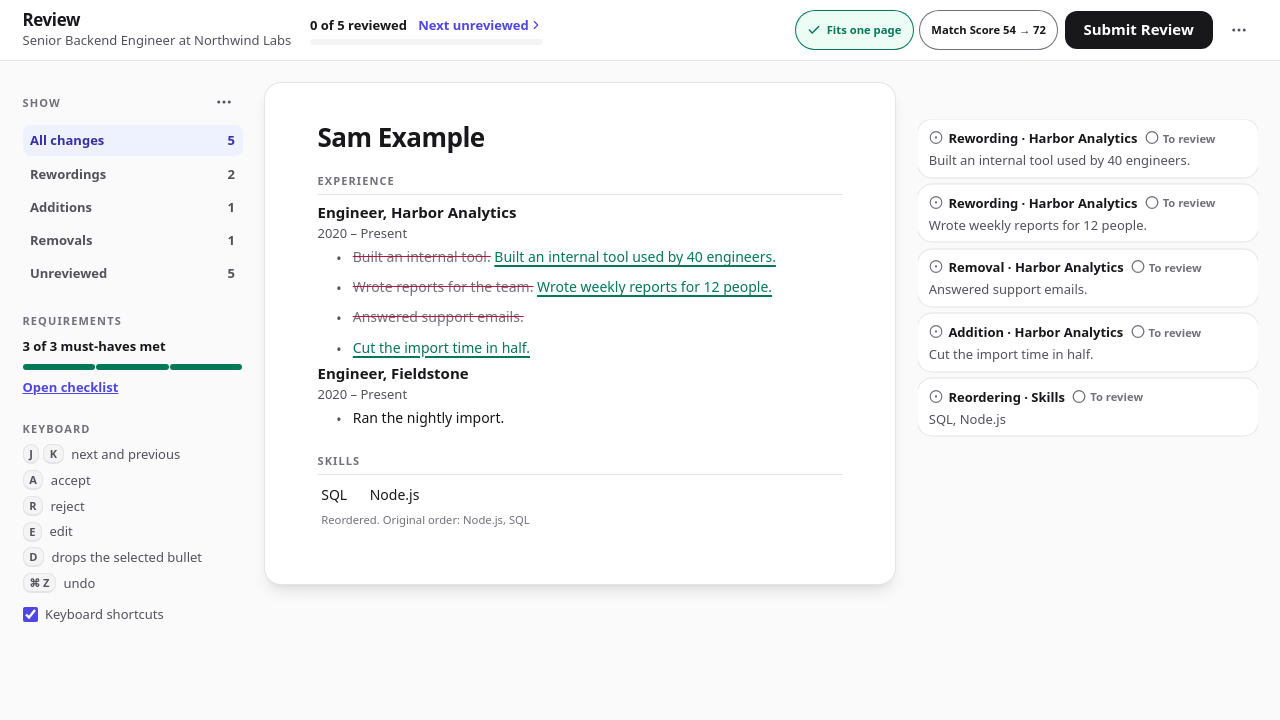
Test: Review screen: top bar and page together › on CV_TOO_LONG at submit, opens the fit popover with the message and the hint card shows the new fit
Click the button "Submit Review" at x=1139, y=30, box [1065,11,1212,49]
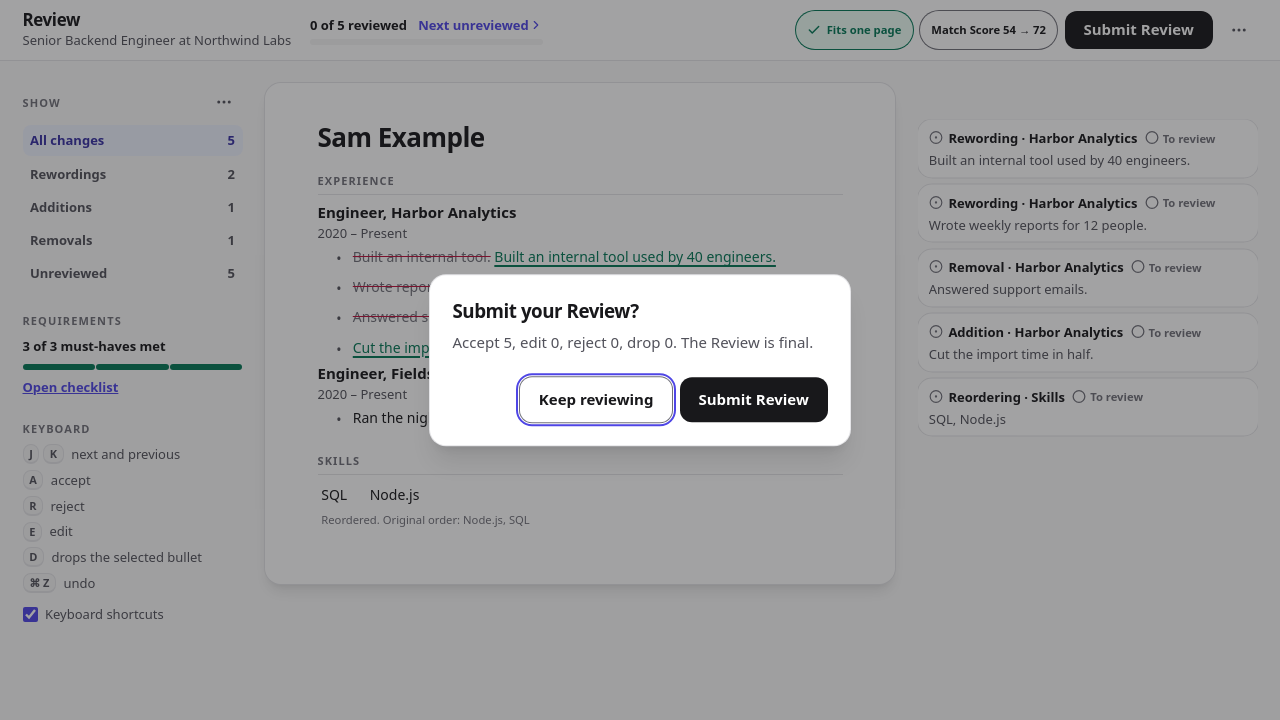
Click the button "Submit Review" at x=754, y=400, box [680,377,828,422]
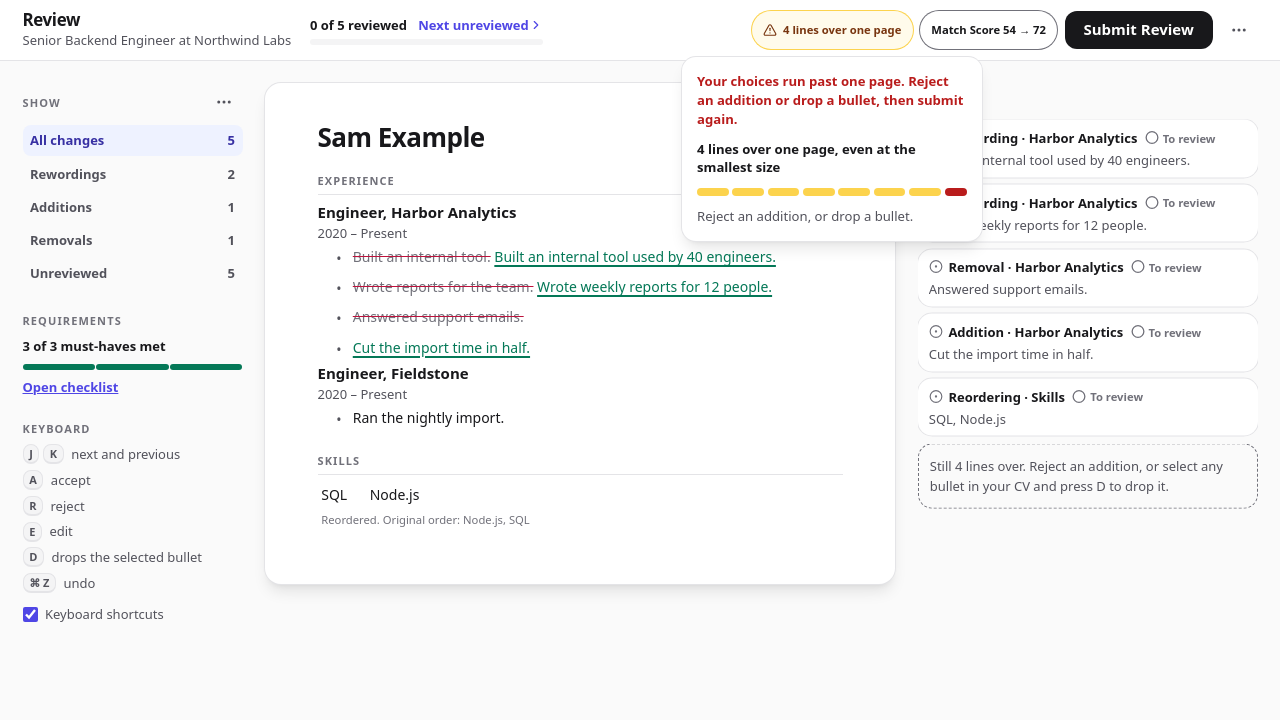
Expected: the text "Your choices run past one page. Reject an addition or drop a bullet, then submit again." is shown, [697,72,963,128]
Expected: the text "Still 4 lines over" is shown, [918,443,1258,508]
